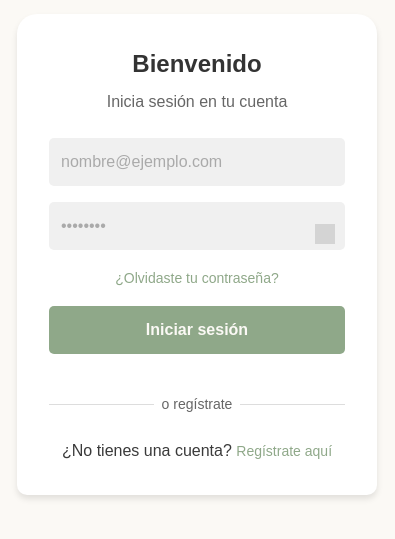
LoginPage › debería mostrar errores si los campos están vacíos al enviar el formulario
Click the button "Iniciar sesión" at (197, 330), box [49,306,345,354]
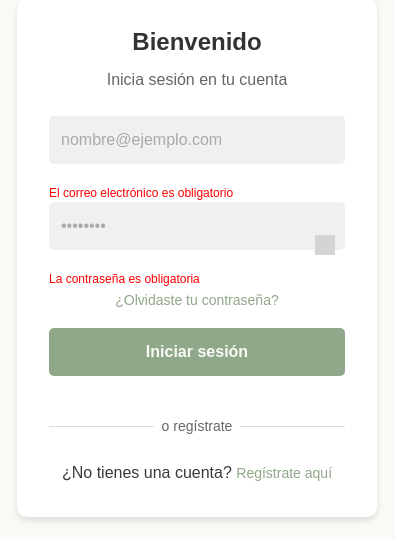
Expected: the text "El correo electrónico es obligatorio" is shown, [49,186,233,200]
Expected: the text "La contraseña es obligatoria" is shown, [49,272,200,286]
